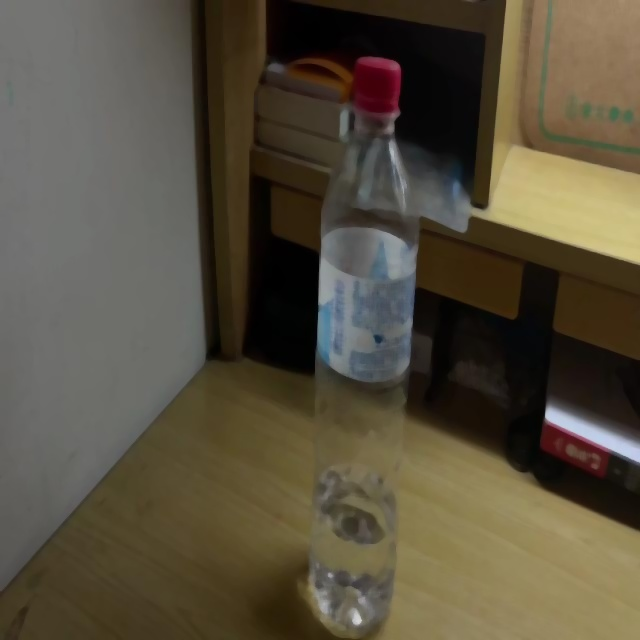Water: (312, 55, 419, 636)
